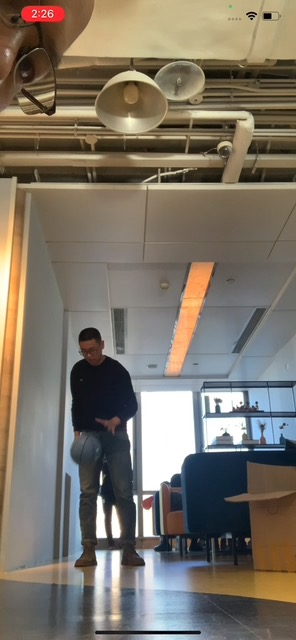ball: (70, 432, 102, 467)
